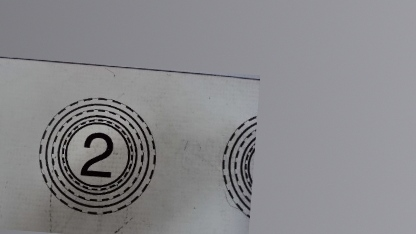2r: (33, 91, 160, 218)
